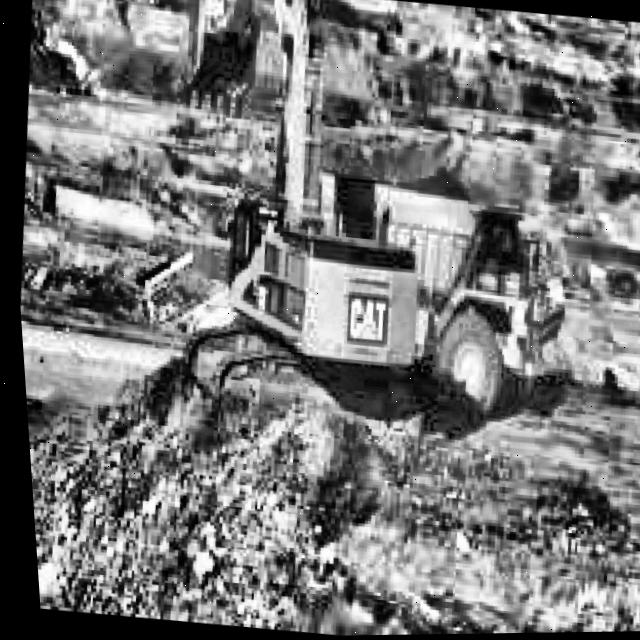dump_truck: (301, 148, 589, 428)
excavator: (141, 0, 462, 428)
